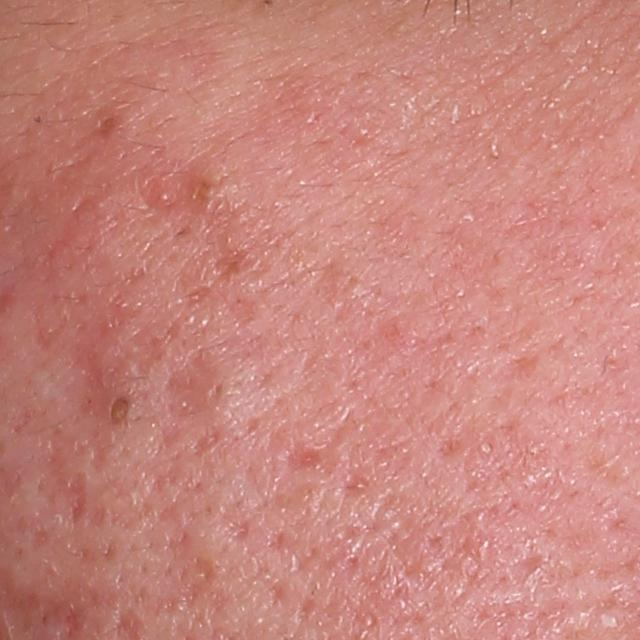atrophic_scar: (338, 490, 417, 585), (282, 406, 354, 486), (136, 556, 218, 623)
comedo: (105, 393, 133, 429)
